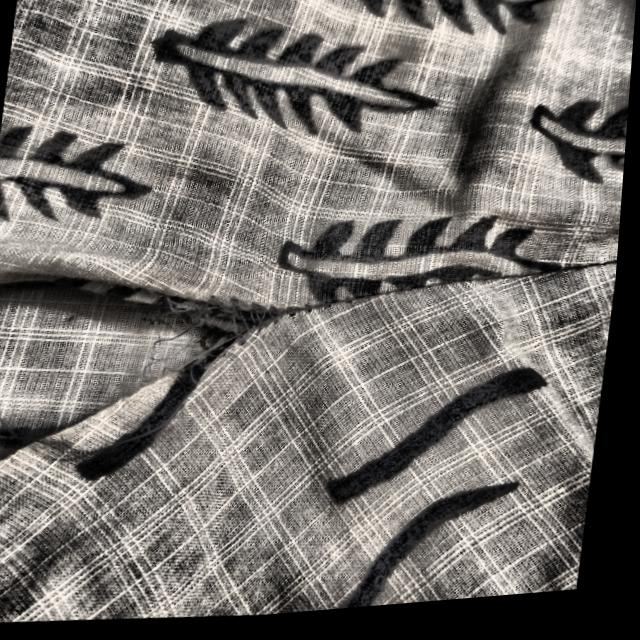Stitch: (0, 257, 293, 489)
